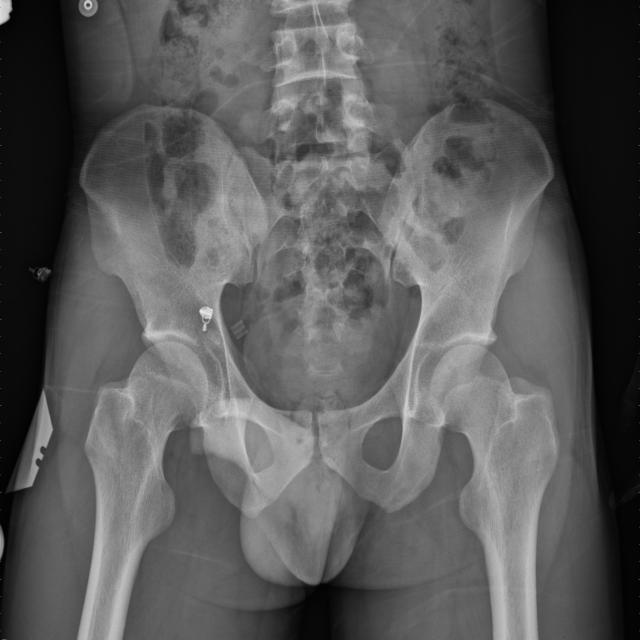normal-left: (76, 342, 208, 640), (429, 344, 559, 640)
